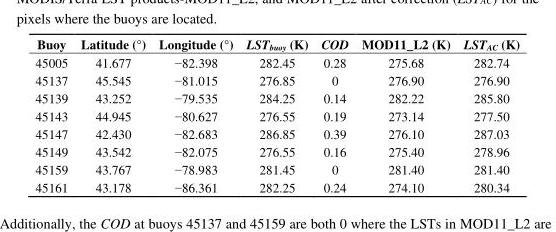table: (34, 34, 519, 195)
table column: (354, 34, 456, 195), (151, 34, 239, 195), (73, 34, 151, 195), (239, 34, 313, 195), (456, 34, 519, 195), (313, 34, 354, 195), (34, 34, 73, 195)
table column header: (34, 34, 519, 52)
table row: (34, 34, 519, 52), (34, 52, 519, 70), (34, 70, 519, 88), (34, 88, 519, 106), (34, 106, 519, 124), (34, 141, 519, 159), (34, 159, 519, 177), (34, 177, 519, 195), (34, 124, 519, 141)
